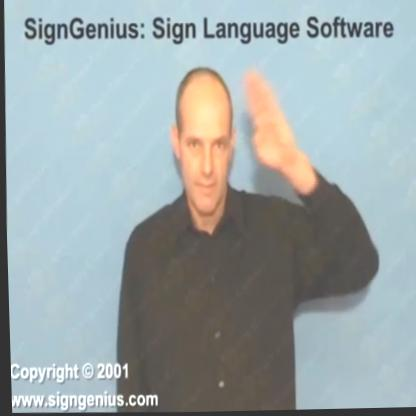Hello: (166, 61, 310, 227)
